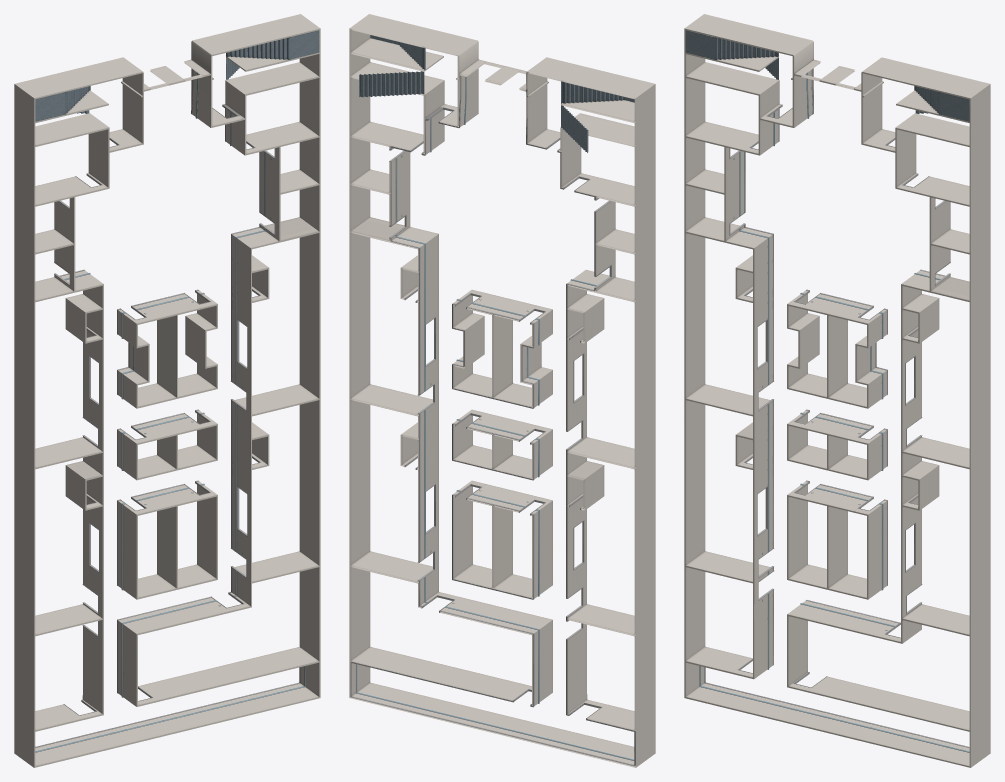
Rendered from aws_robomaker_hospital_floor_01_walls_visual.dae.
The picture shows the model from 3 angles, left to right: view 1: azimuth 30°, elevation 25°; view 2: azimuth 150°, elevation 25°; view 3: azimuth 330°, elevation 25°; orthographic projection.
Parts seen in each view (by area): view 1: aws_robomaker_hospital_floor_01_walls_visual, aws_robomaker_hospital_floor_01_stairs_visual, aws_robomaker_hospital_floor_01_handrail_visual, aws_robomaker_hospital_floor_01_bumprail_visual, aws_robomaker_hospital_floor_01_doorframes_small_visual, aws_robomaker_hospital_floor_01_windows_visual, aws_robomaker_hospital_floor_01_doorframes_big_visual; view 2: aws_robomaker_hospital_floor_01_walls_visual, aws_robomaker_hospital_floor_01_bumprail_visual, aws_robomaker_hospital_floor_01_stairs_visual, aws_robomaker_hospital_floor_01_handrail_visual, aws_robomaker_hospital_floor_01_doorframes_small_visual, aws_robomaker_hospital_floor_01_windows_visual, aws_robomaker_hospital_floor_01_doorframes_big_visual; view 3: aws_robomaker_hospital_floor_01_walls_visual, aws_robomaker_hospital_floor_01_stairs_visual, aws_robomaker_hospital_floor_01_handrail_visual, aws_robomaker_hospital_floor_01_bumprail_visual, aws_robomaker_hospital_floor_01_doorframes_small_visual, aws_robomaker_hospital_floor_01_windows_visual, aws_robomaker_hospital_floor_01_doorframes_big_visual.
Boxes of the visible parts, x1,y1,x2,y2 form: aws_robomaker_hospital_floor_01_walls_visual: [14, 14, 320, 767]; aws_robomaker_hospital_floor_01_stairs_visual: [35, 30, 319, 121]; aws_robomaker_hospital_floor_01_handrail_visual: [35, 72, 305, 752]; aws_robomaker_hospital_floor_01_bumprail_visual: [35, 69, 300, 747]; aws_robomaker_hospital_floor_01_doorframes_small_visual: [54, 104, 275, 510]; aws_robomaker_hospital_floor_01_windows_visual: [89, 319, 247, 572]; aws_robomaker_hospital_floor_01_doorframes_big_visual: [64, 381, 246, 715]; aws_robomaker_hospital_floor_01_walls_visual: [349, 14, 655, 767]; aws_robomaker_hospital_floor_01_bumprail_visual: [350, 75, 635, 766]; aws_robomaker_hospital_floor_01_stairs_visual: [359, 35, 634, 152]; aws_robomaker_hospital_floor_01_handrail_visual: [356, 77, 634, 760]; aws_robomaker_hospital_floor_01_doorframes_small_visual: [389, 107, 611, 515]; aws_robomaker_hospital_floor_01_windows_visual: [425, 317, 584, 569]; aws_robomaker_hospital_floor_01_doorframes_big_visual: [417, 384, 601, 720]; aws_robomaker_hospital_floor_01_walls_visual: [684, 14, 990, 767]; aws_robomaker_hospital_floor_01_stairs_visual: [685, 30, 969, 121]; aws_robomaker_hospital_floor_01_handrail_visual: [699, 72, 969, 752]; aws_robomaker_hospital_floor_01_bumprail_visual: [704, 69, 969, 747]; aws_robomaker_hospital_floor_01_doorframes_small_visual: [729, 104, 950, 510]; aws_robomaker_hospital_floor_01_windows_visual: [757, 319, 915, 572]; aws_robomaker_hospital_floor_01_doorframes_big_visual: [738, 381, 922, 687].
Size of the model in its own units: 2512 by 5612 by 600.
Materials: 8 (8 with a texture image).
